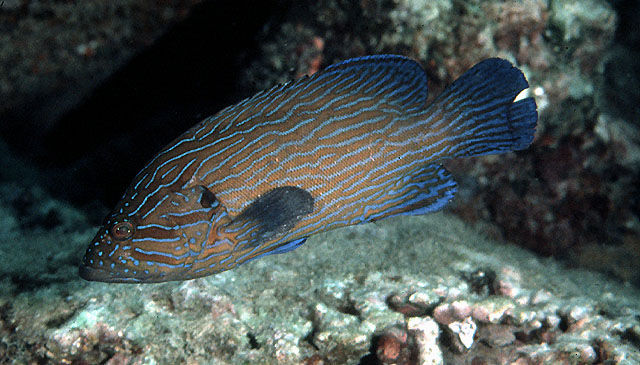fish: (79, 54, 539, 283)
